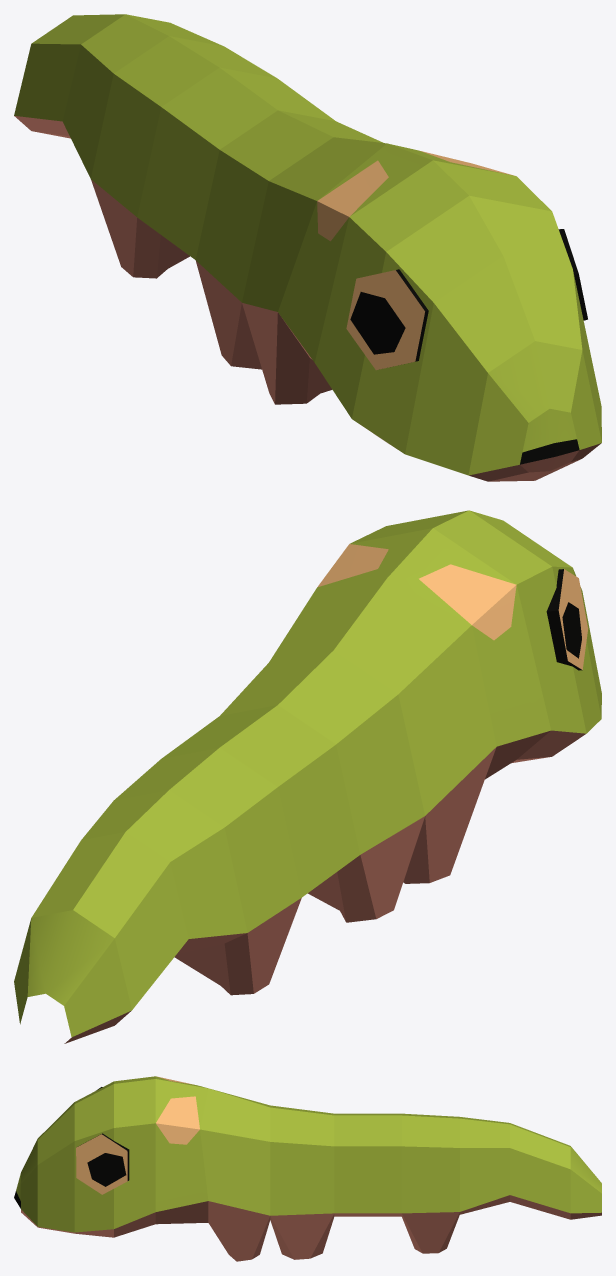
Rendered from 1c3847ff-9ff9-40b1-8601-a7cefffc3f32.glb.
The picture shows the model from 3 angles, top to bottom: view 1: azimuth 30°, elevation 25°; view 2: azimuth 150°, elevation 25°; view 3: azimuth 270°, elevation 25°; orthographic projection. The views are drawn at different scales.
Visible parts, largest first — view 1: Geo_Caterpillar; view 2: Geo_Caterpillar; view 3: Geo_Caterpillar.
Boxes of the visible parts, left/top/right/bottom form: Geo_Caterpillar: left=14, top=14, right=601, bottom=481; Geo_Caterpillar: left=14, top=510, right=601, bottom=1043; Geo_Caterpillar: left=14, top=1076, right=601, bottom=1261.
Bounding box in the file's own units: 26.37 × 29.28 × 98.48.
Materials: 1 (1 with a texture image).
